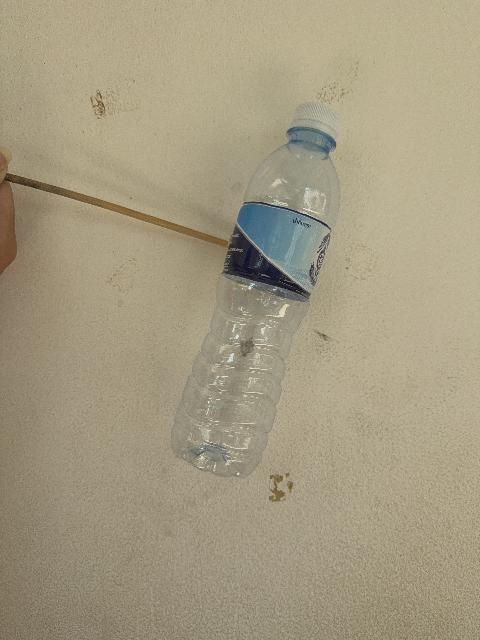bottle: (172, 103, 340, 477)
